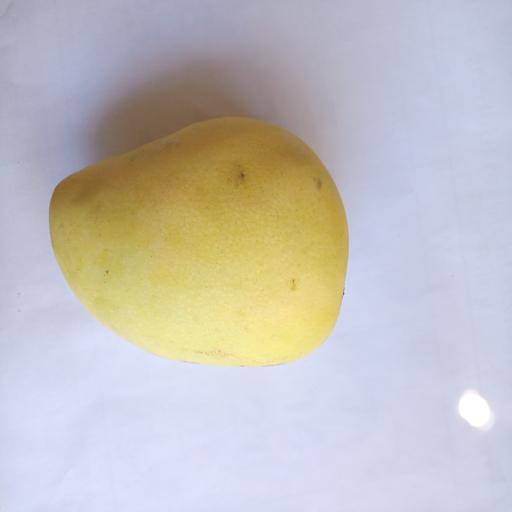mango-ripe: (52, 101, 372, 382)
